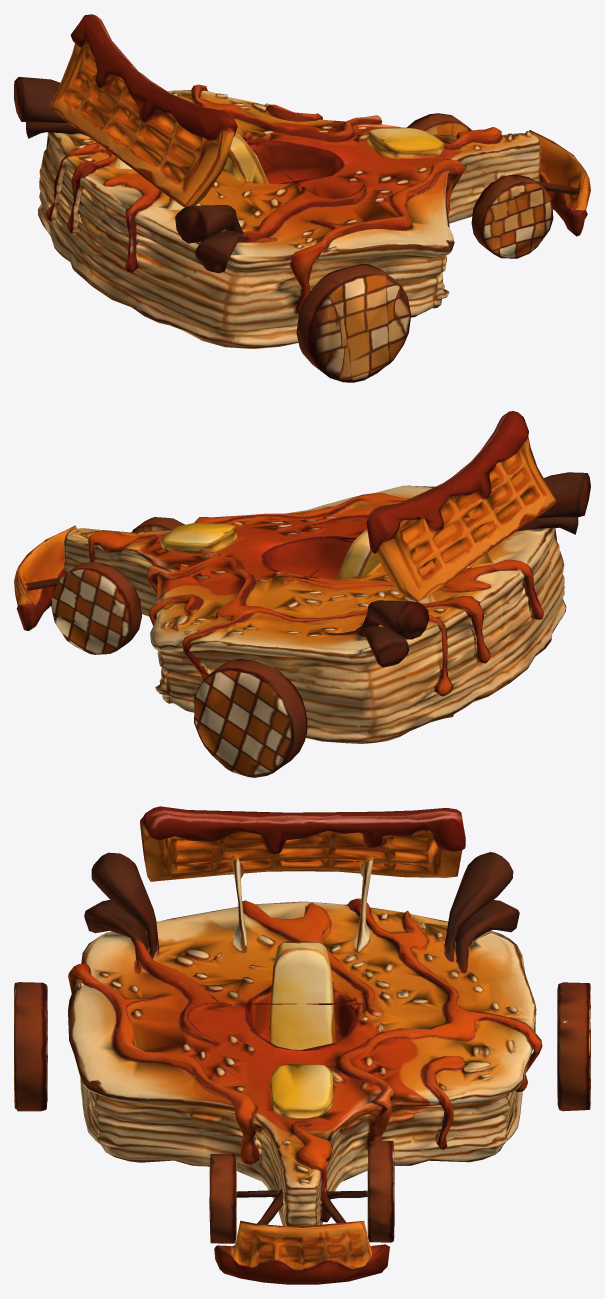
Rendered from wafelauto.glb.
3 views of the same model, one above another, from view 1: azimuth 30°, elevation 25°; view 2: azimuth 150°, elevation 25°; view 3: azimuth 270°, elevation 25° (orthographic). The views are drawn at different scales.
Parts seen in each view (by area): view 1: tripo_node_5c4b9fd1-b3e5-4335-8131-5a7c65f891f4; view 2: tripo_node_5c4b9fd1-b3e5-4335-8131-5a7c65f891f4; view 3: tripo_node_5c4b9fd1-b3e5-4335-8131-5a7c65f891f4.
Boxes of the visible parts, left/top/right/bottom form: tripo_node_5c4b9fd1-b3e5-4335-8131-5a7c65f891f4: left=14, top=14, right=590, bottom=382; tripo_node_5c4b9fd1-b3e5-4335-8131-5a7c65f891f4: left=14, top=411, right=590, bottom=777; tripo_node_5c4b9fd1-b3e5-4335-8131-5a7c65f891f4: left=14, top=806, right=590, bottom=1284.
Bounding box in the file's own units: 2 × 0.9635 × 1.91.
1 material, 1 textured.
